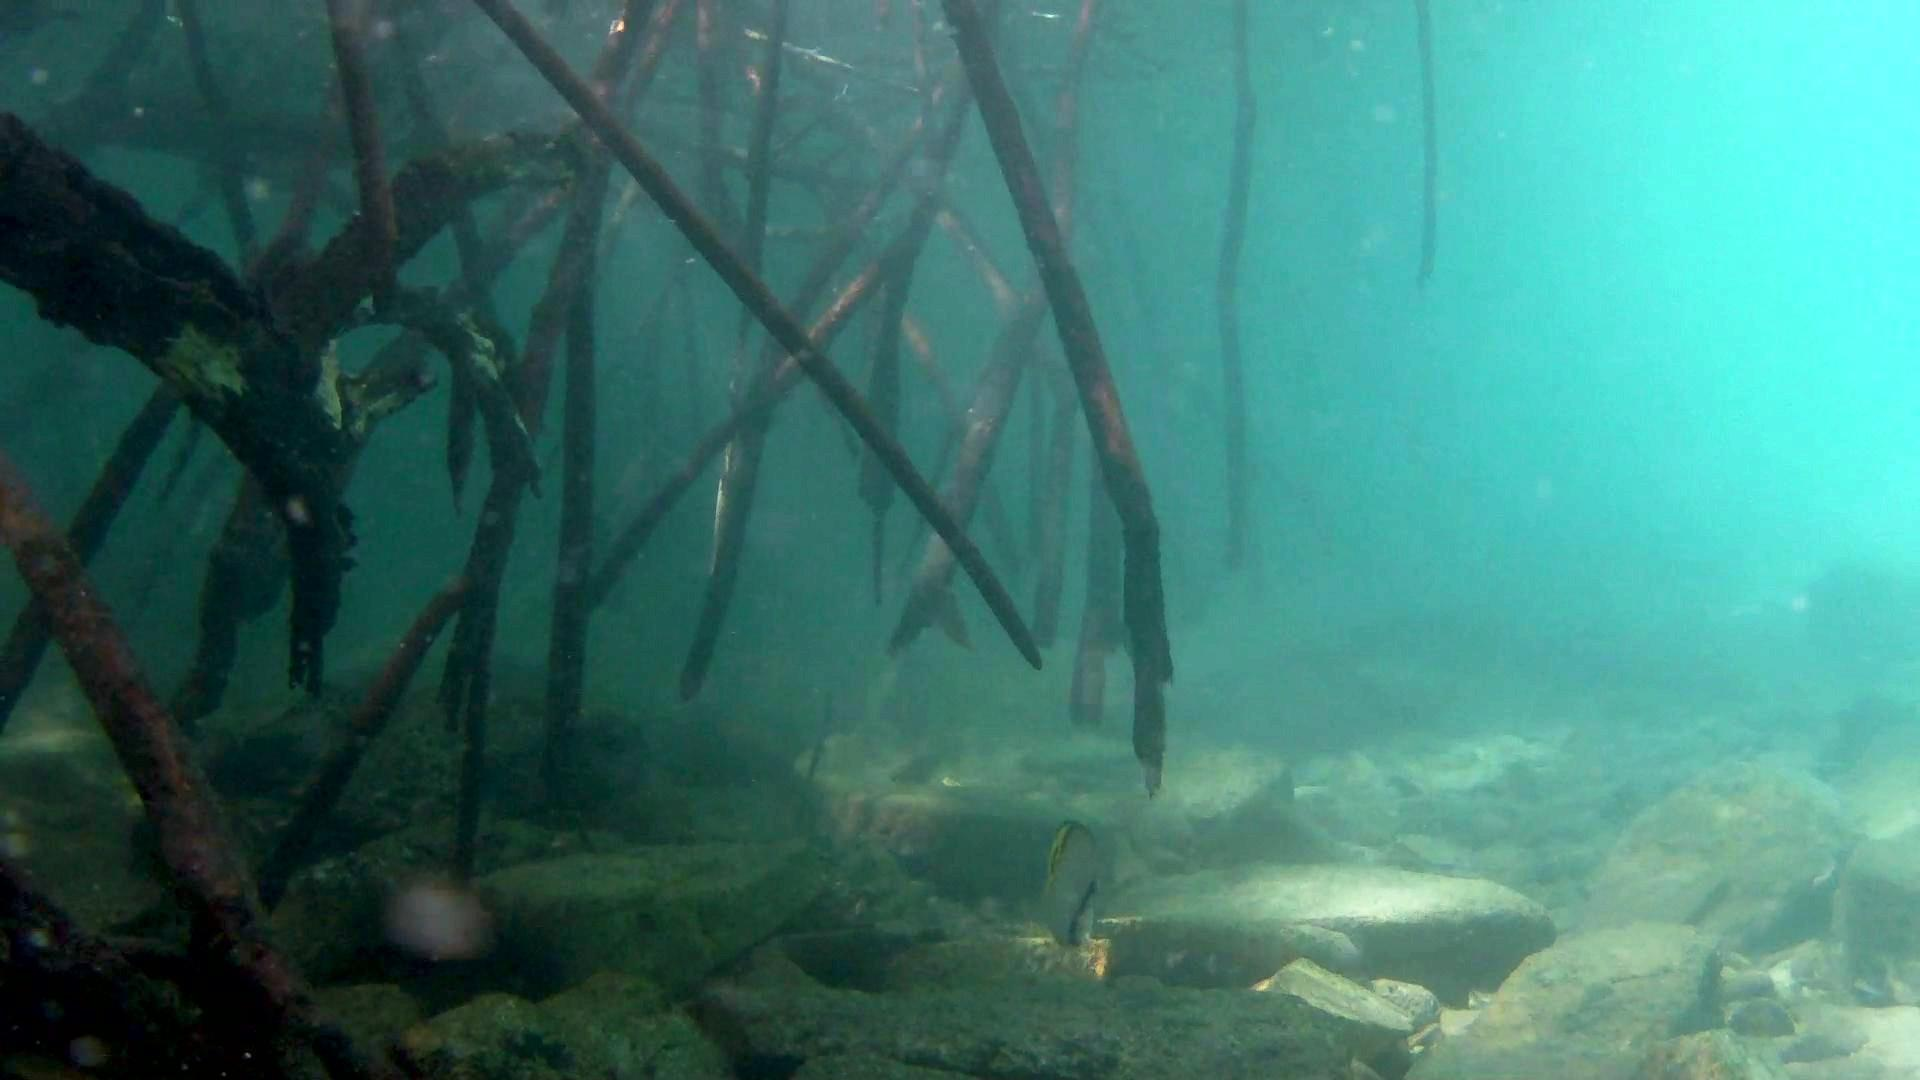chaetodon vagabundus: (1035, 815, 1106, 954)
